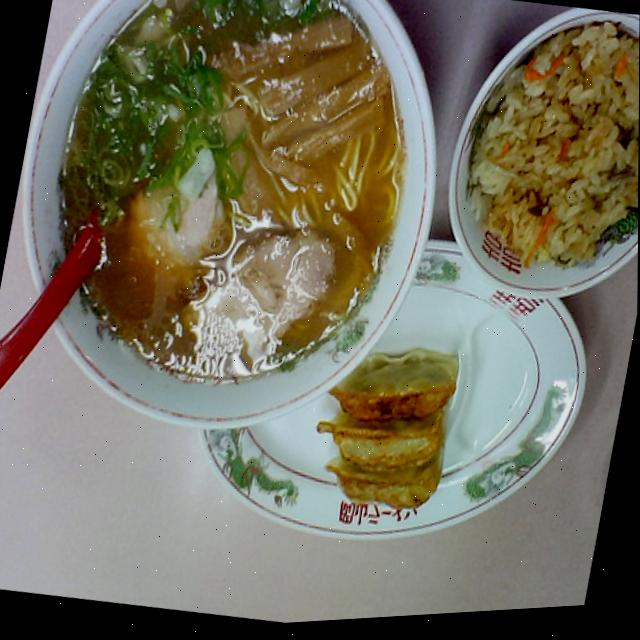带馅早点: (296, 349, 482, 539)
米饭主食: (451, 12, 640, 300)
面条主食: (23, 0, 431, 414)
